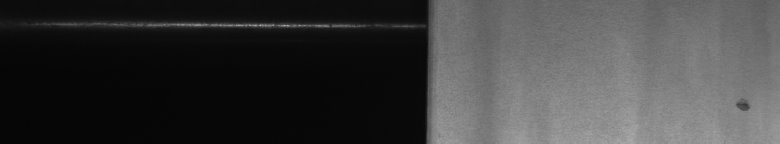fi: (732, 92, 752, 119)
